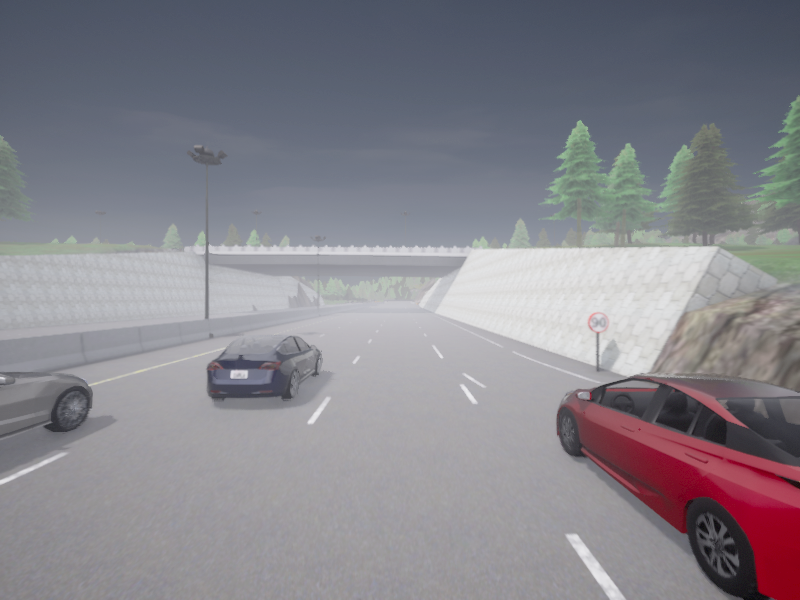vehicle: (556, 374, 799, 599), (206, 335, 321, 400), (0, 372, 92, 440)
